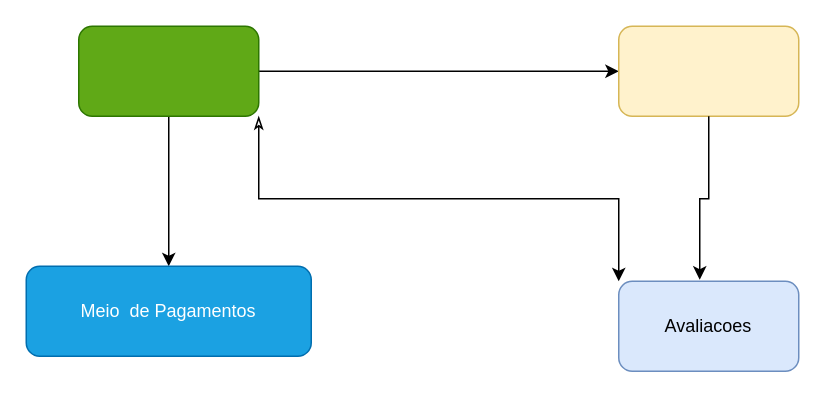
Image size: 825x398. Some labels were removed from this diagram. Here are the shapes that lost their labels. From the top down, the box of each, then its label:
(77, 25, 259, 116): Usuarios
(617, 25, 799, 116): Produtos
